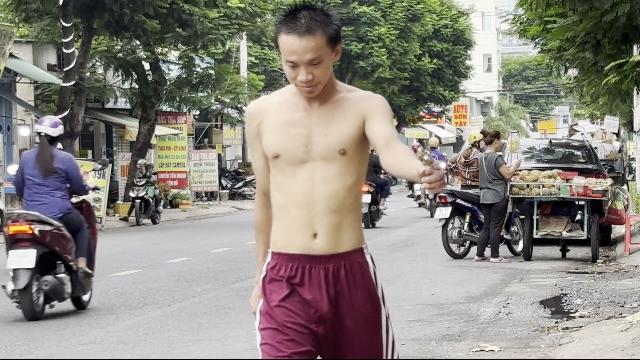helmet: (32, 114, 64, 146), (466, 129, 482, 149)
licenseplate: (7, 250, 36, 268), (434, 208, 452, 218)
motorcyclist: (0, 113, 100, 320)
